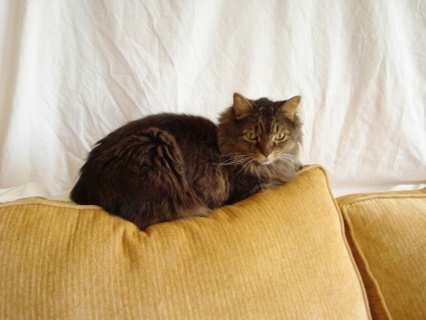Cat: (70, 89, 309, 229)
